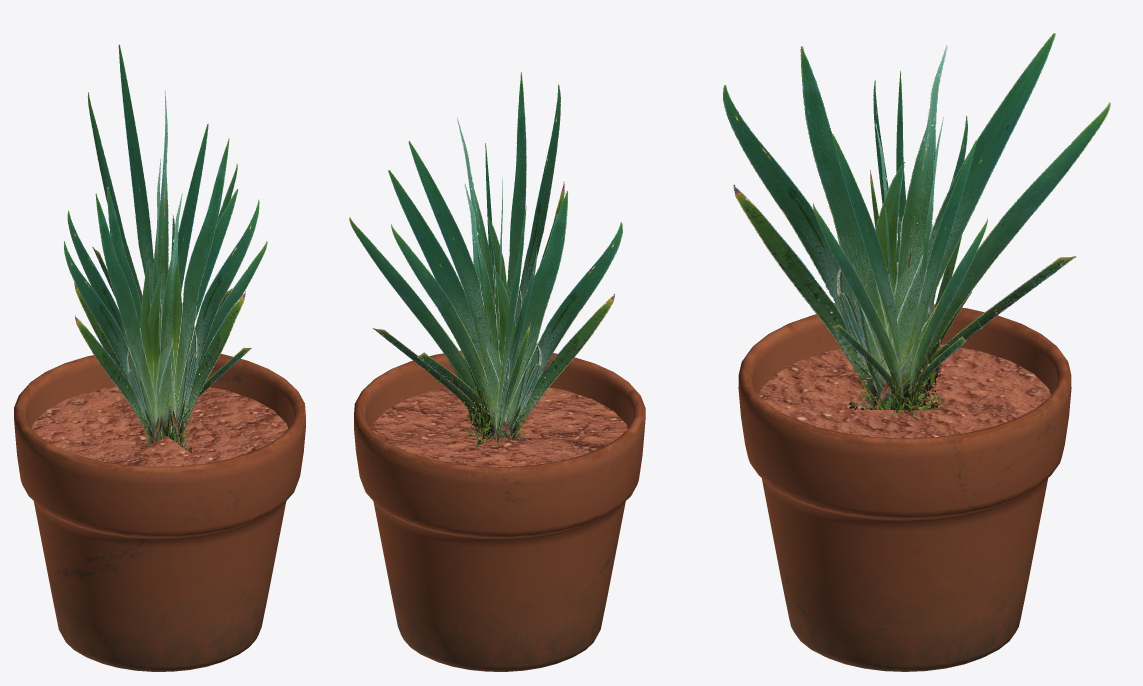
File: maceta_planta_verde.obj
3 renders of one model, left to right at view 1: azimuth 30°, elevation 25°; view 2: azimuth 150°, elevation 25°; view 3: azimuth 270°, elevation 25°, orthographic. The views are drawn at different scales.
Parts seen in each view (by area): view 1: maceta_planta_verde; view 2: maceta_planta_verde; view 3: maceta_planta_verde.
Boxes of the visible parts, left/top/right/bottom form: maceta_planta_verde: left=14, top=44, right=305, bottom=671; maceta_planta_verde: left=349, top=72, right=645, bottom=671; maceta_planta_verde: left=723, top=33, right=1110, bottom=671.
Size of the model in its own units: 0.3781 by 0.72 by 0.4731.
